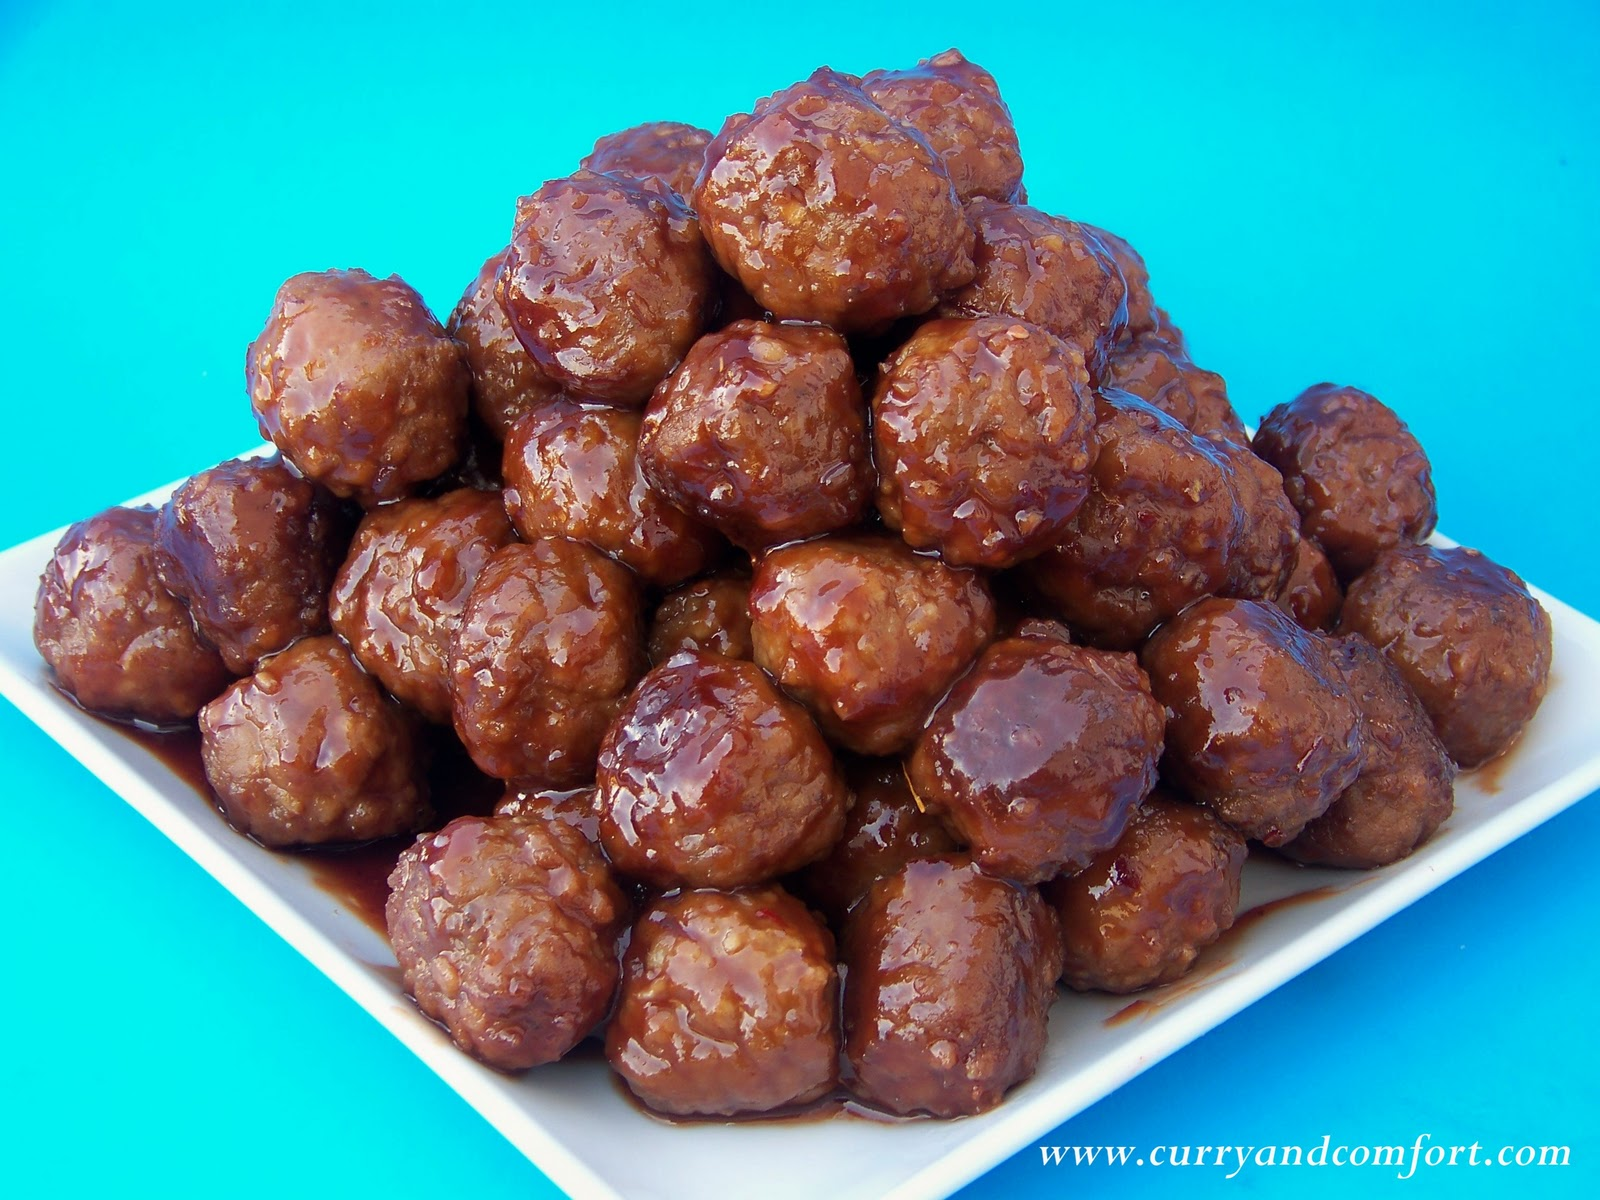meatballs: (217, 279, 1557, 911), (509, 38, 1062, 1121), (16, 480, 242, 731)
